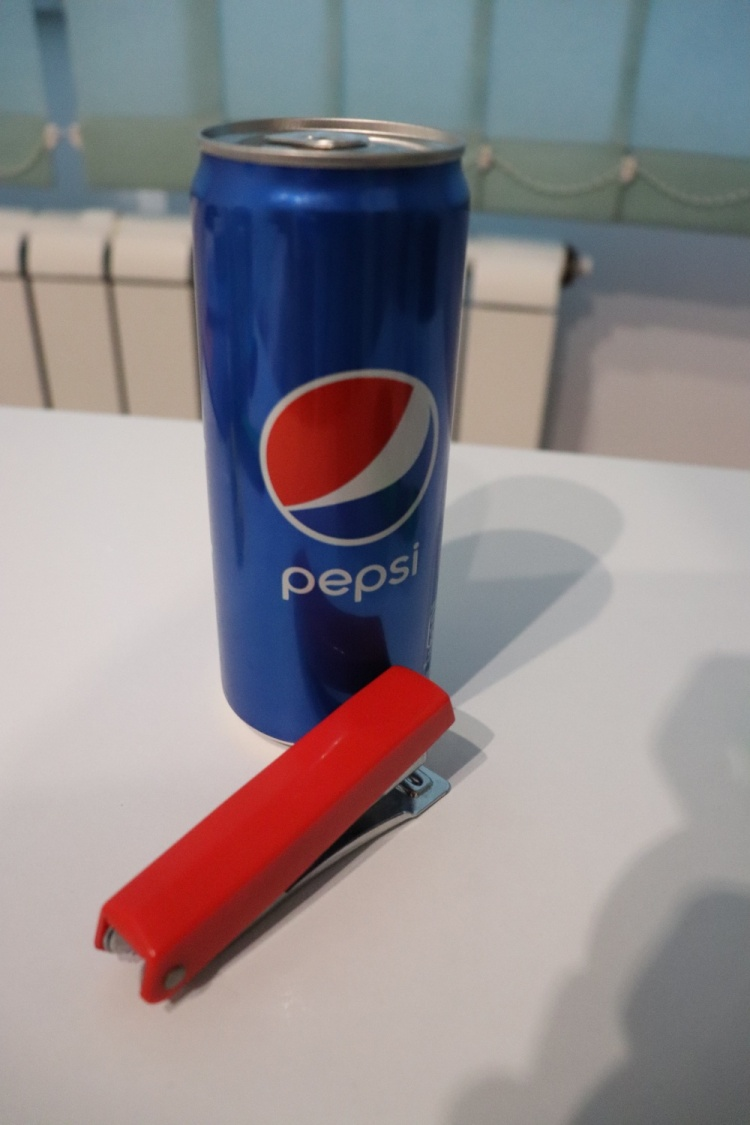pepsi: (182, 111, 468, 747)
